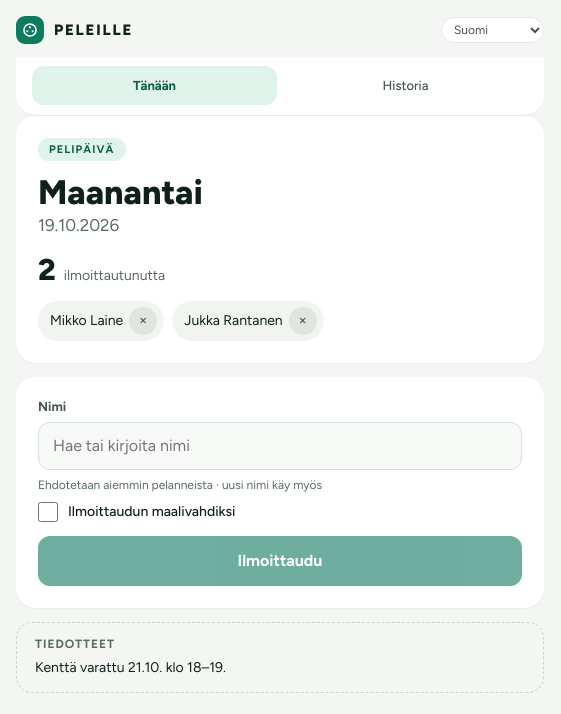
Test: removing a name asks first › the first tap asks for confirmation
Step 1. Click the button named "Poista Mikko Laine" → (143, 321), box x1=129 y1=307 x2=157 y2=335
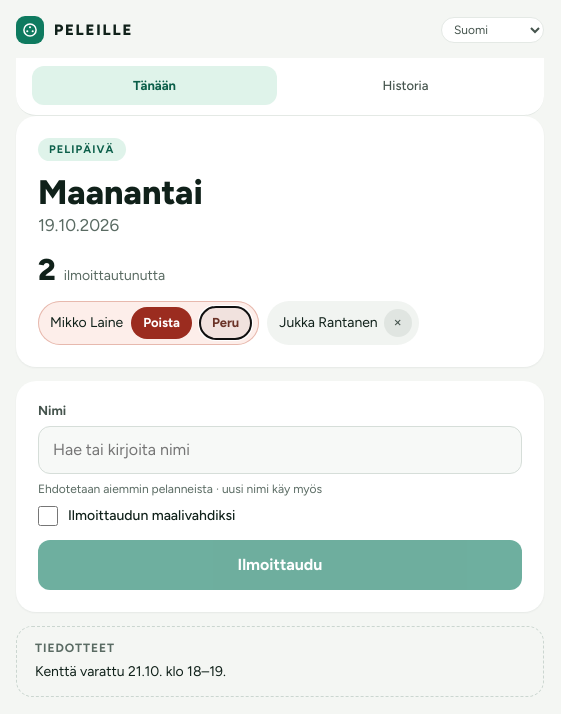
Expected: the button "Poista" is shown, x1=131 y1=307 x2=192 y2=339
Expected: the button "Peru" is shown, x1=200 y1=307 x2=251 y2=339
